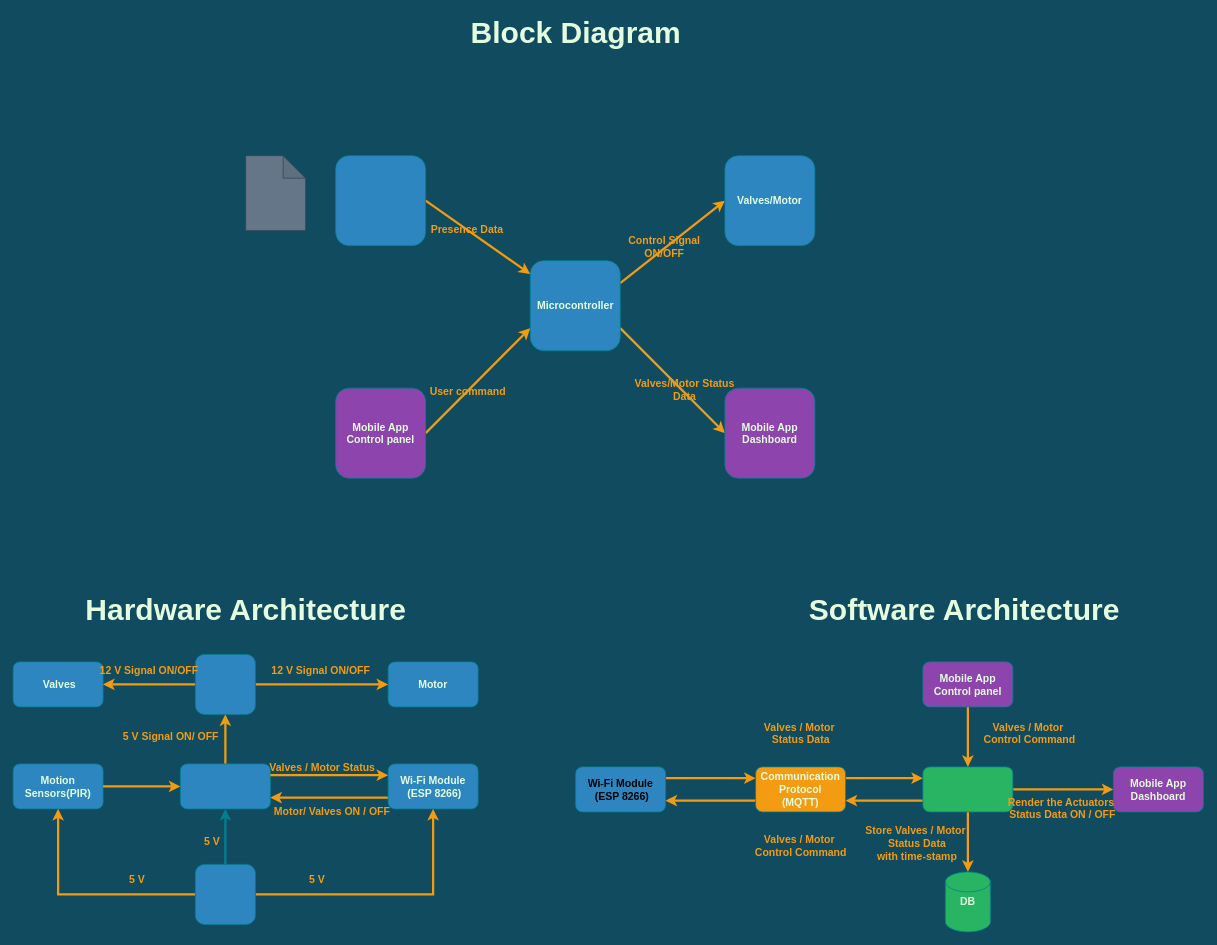
The diagram is 1217 pixels wide and 945 high, and some of its shapes have lost their labels. Each missing label, with the box of its shape:
Micro controller (Arduino Mega): (180, 763, 270, 809)
Mobile App: (922, 766, 1013, 812)
Motion Sensors: (335, 155, 426, 246)
Not supported Yet: (245, 155, 306, 231)
Power: (195, 864, 255, 924)
Relay Module: (195, 654, 255, 714)
